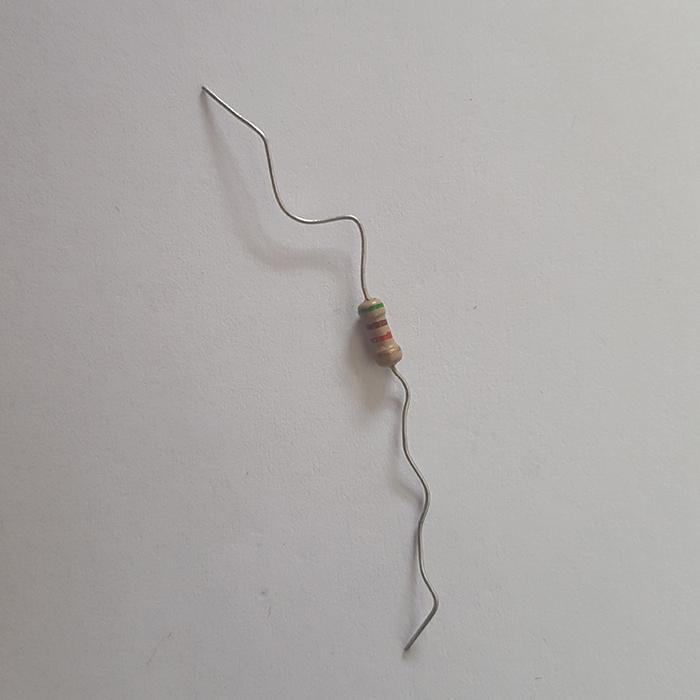resistor: (357, 294, 402, 367)
